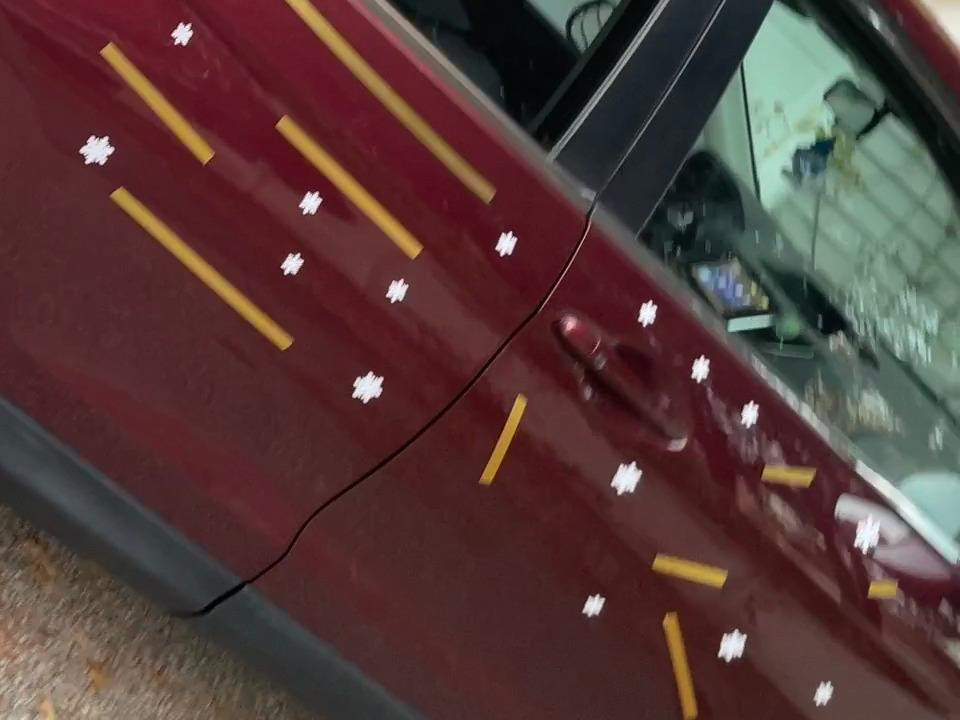dent: (350, 367, 390, 407), (849, 513, 883, 558), (609, 457, 647, 496), (80, 131, 117, 170), (713, 628, 752, 663), (808, 676, 840, 712), (687, 351, 713, 387), (277, 249, 307, 280), (384, 275, 412, 308), (493, 226, 521, 259), (634, 298, 663, 329), (297, 188, 323, 220), (736, 398, 762, 430), (581, 589, 607, 619), (170, 19, 195, 47)
scratch: (281, 0, 500, 206), (108, 182, 298, 356), (271, 115, 429, 264), (98, 39, 220, 168), (654, 609, 706, 720), (477, 391, 535, 489), (649, 548, 729, 590), (758, 459, 823, 489), (862, 575, 907, 605)
